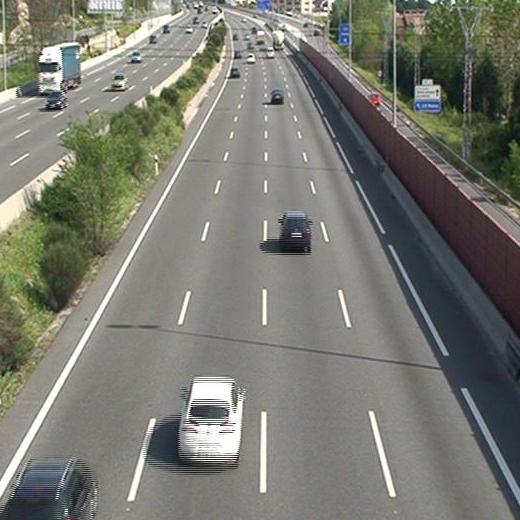car: (3, 459, 98, 519), (181, 374, 243, 461), (280, 213, 312, 248), (272, 90, 284, 104), (229, 66, 240, 77), (246, 53, 255, 64)
tank-truck: (273, 30, 284, 49)
van: (265, 48, 275, 59)
